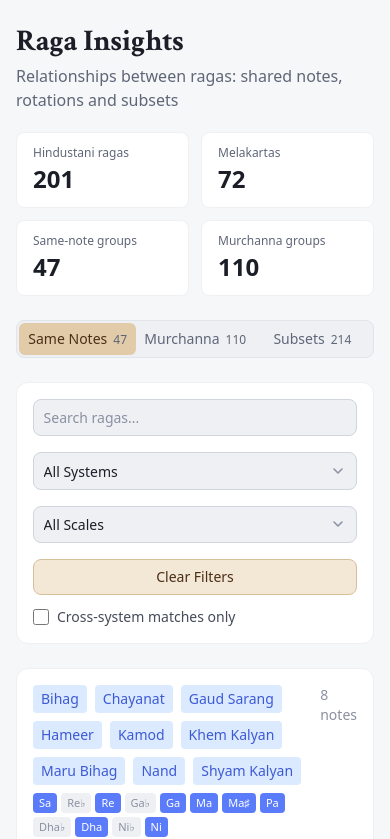
RagaInsights › "Subsets of" lists the smaller ragas contained in the searched raga
Click the tab "Subsets214". click: (312, 339)
box: [254,323,371,355]
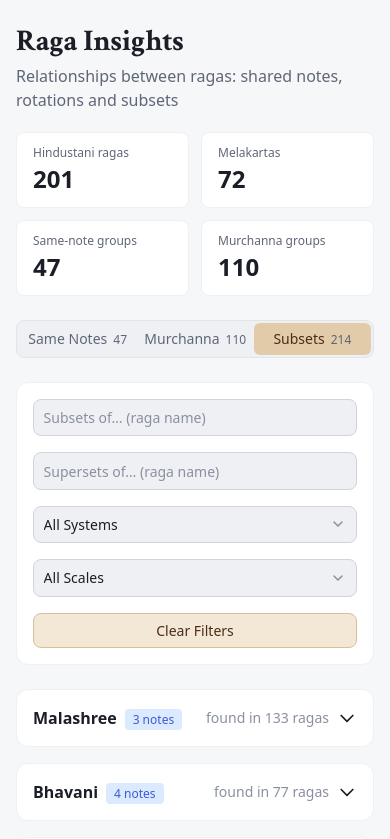
Type "yaman" into the search field named "Find subsets of a raga". click: (195, 418)
box: [33,399,357,436]
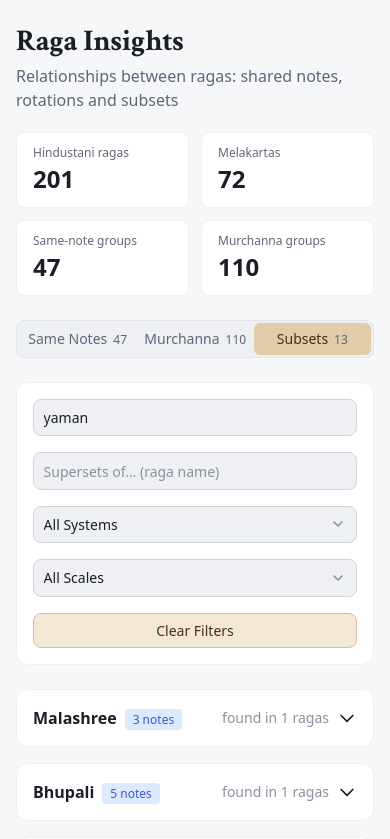
Click the button "Malashree3 notes found in 1 ragas". click: (75, 718)
box: [17,690,373,746]
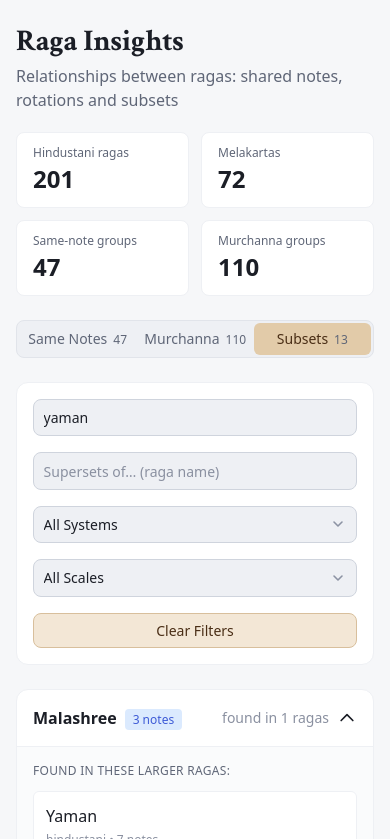
Expected: the text "Yaman" is shown, [46,805,97,827]
